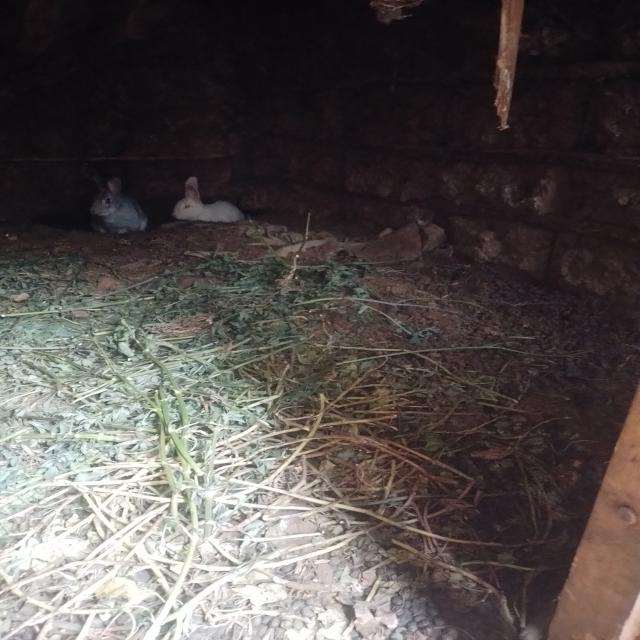rabbit: (79, 129, 318, 275)
